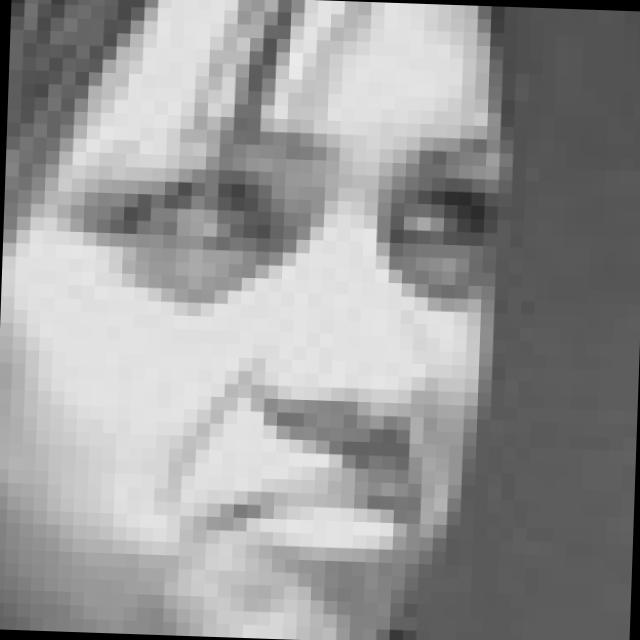disgust: (57, 111, 506, 598)
